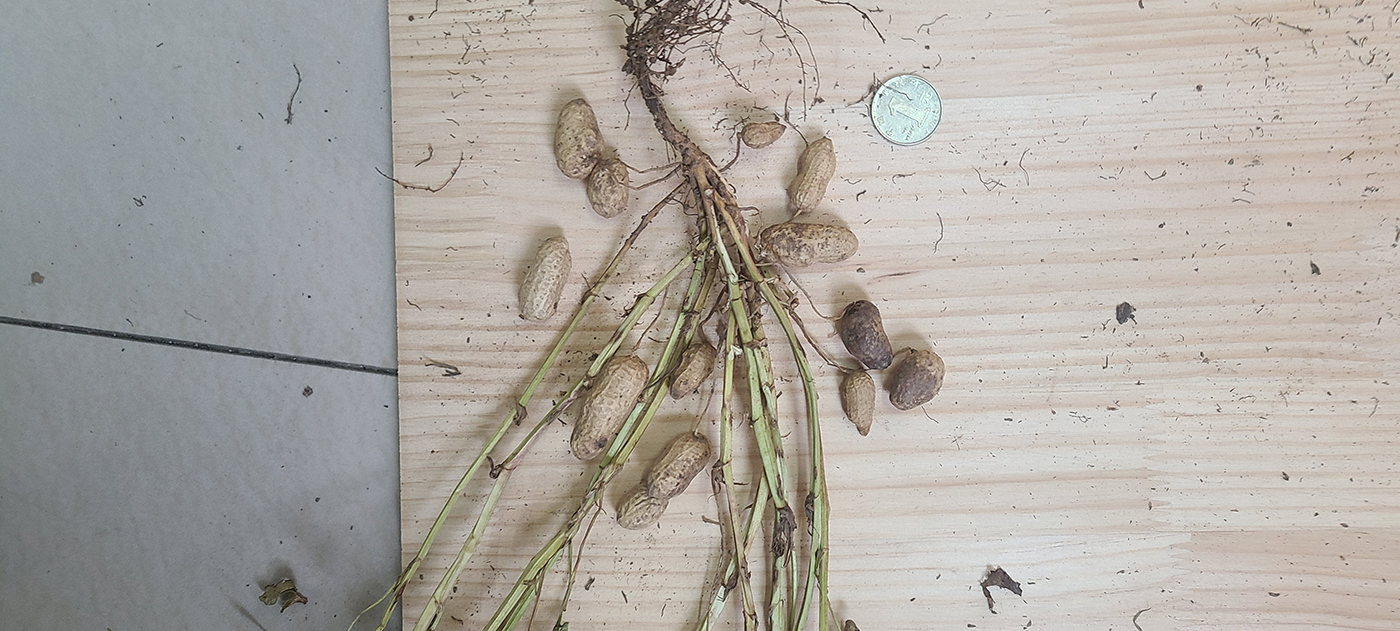h: (616, 430, 709, 528), (570, 356, 650, 460), (516, 233, 572, 321), (756, 224, 860, 266), (785, 136, 837, 216), (554, 98, 604, 178), (664, 343, 719, 400), (839, 370, 877, 436), (588, 159, 631, 217)
l: (887, 349, 948, 412), (840, 302, 893, 370)
